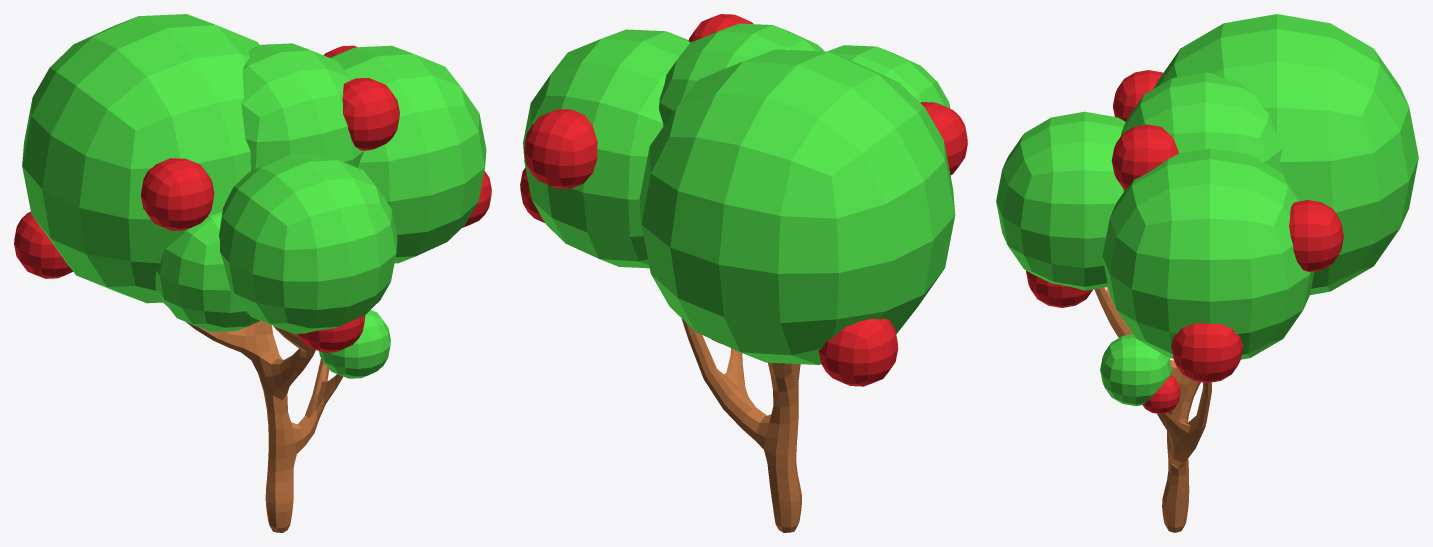
File: arvore_jogo_golfe_maça.fbx
3 views of the same model, side by side, from view 1: azimuth 30°, elevation 25°; view 2: azimuth 150°, elevation 25°; view 3: azimuth 270°, elevation 25° (orthographic). The views are drawn at different scales.
Visible parts, largest first — view 1: Cube.001, Cube.003, Cube.002, Cube.006, Cube, Cube.007, Cube.009, Cube.013, Cube.004, Cube.008, Cube.012, Cube.011; view 2: Cube.001, Cube.002, Cube, Cube.006, Cube.010, Cube.008, Cube.003, Cube.009, Cube.013; view 3: Cube.002, Cube.001, Cube.003, Cube.006, Cube, Cube.004, Cube.011, Cube.010, Cube.013, Cube.009, Cube.012, Cube.005.
Part boxes in pixels (<box>): Cube.001: <box>22,14,259,303</box>; Cube.003: <box>219,153,397,333</box>; Cube.002: <box>330,45,486,263</box>; Cube.006: <box>241,43,363,170</box>; Cube: <box>163,302,342,532</box>; Cube.007: <box>155,212,259,331</box>; Cube.009: <box>141,158,214,230</box>; Cube.013: <box>342,78,399,150</box>; Cube.004: <box>319,310,390,378</box>; Cube.008: <box>14,211,72,278</box>; Cube.012: <box>297,315,365,352</box>; Cube.011: <box>462,171,491,227</box>; Cube.001: <box>639,49,955,364</box>; Cube.002: <box>523,29,690,268</box>; Cube: <box>681,318,801,532</box>; Cube.006: <box>659,23,824,126</box>; Cube.010: <box>524,109,597,188</box>; Cube.008: <box>818,318,898,386</box>; Cube.003: <box>827,45,950,176</box>; Cube.009: <box>920,102,967,174</box>; Cube.013: <box>688,14,753,42</box>; Cube.002: <box>1102,148,1314,359</box>; Cube.001: <box>1153,14,1418,294</box>; Cube.003: <box>996,111,1125,290</box>; Cube.006: <box>1121,72,1282,191</box>; Cube: <box>1094,287,1211,532</box>; Cube.004: <box>1100,334,1171,406</box>; Cube.011: <box>1171,323,1242,383</box>; Cube.010: <box>1289,200,1343,271</box>; Cube.013: <box>1111,124,1178,189</box>; Cube.009: <box>1113,70,1162,121</box>; Cube.012: <box>1026,271,1092,307</box>; Cube.005: <box>1142,375,1180,413</box>.
Size of the model in its own units: 4180 by 4700 by 3798.
